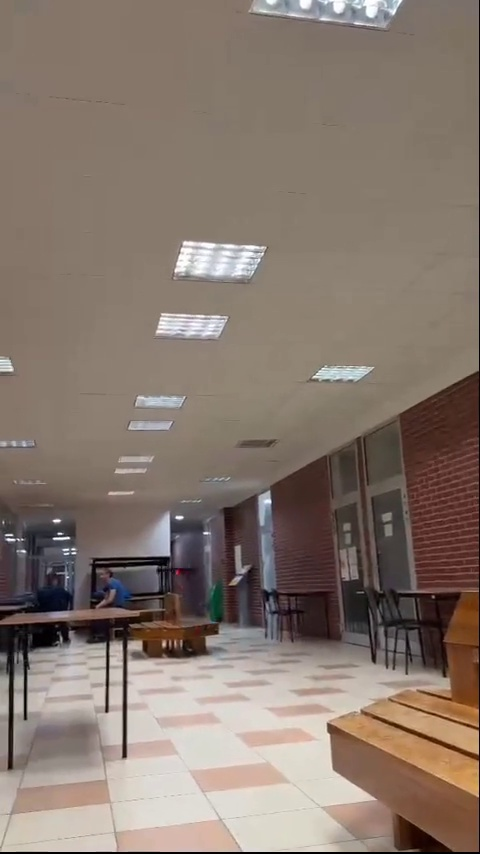drone: (159, 564, 202, 584)
no vest: (39, 567, 76, 616), (99, 565, 127, 608)
